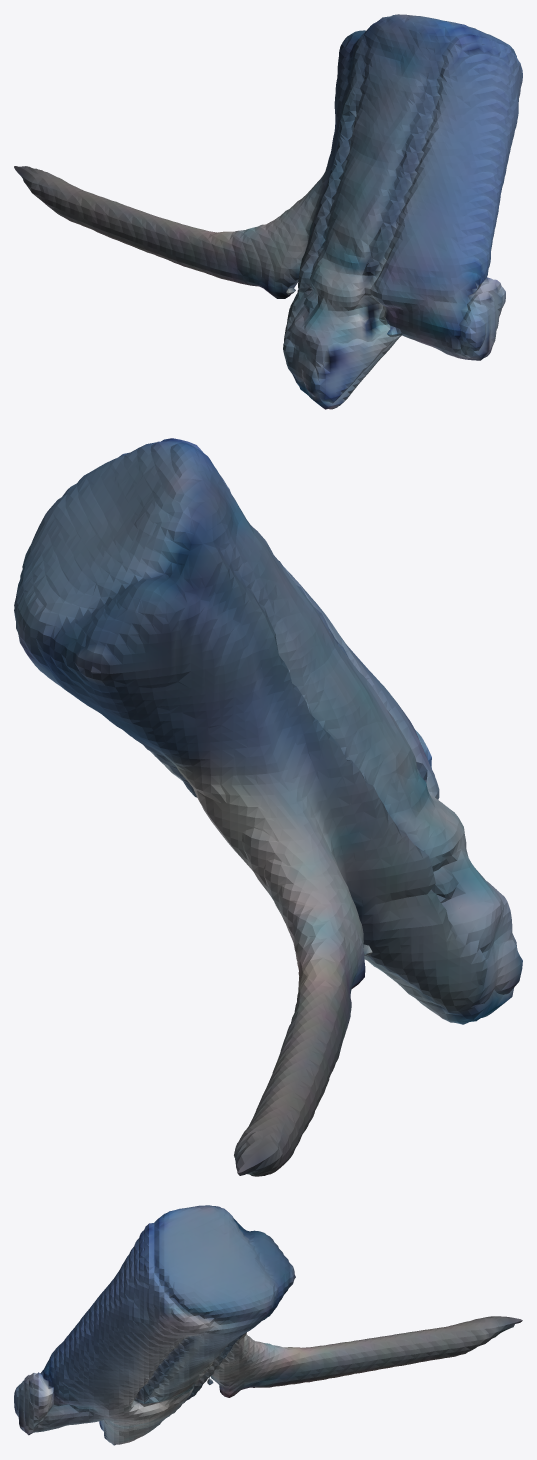
3 renders of one model, top to bottom at view 1: azimuth 30°, elevation 25°; view 2: azimuth 150°, elevation 25°; view 3: azimuth 270°, elevation 25°, orthographic. The views are drawn at different scales.
Bounding box in the file's own units: 0.439 × 0.4398 × 0.6923.
